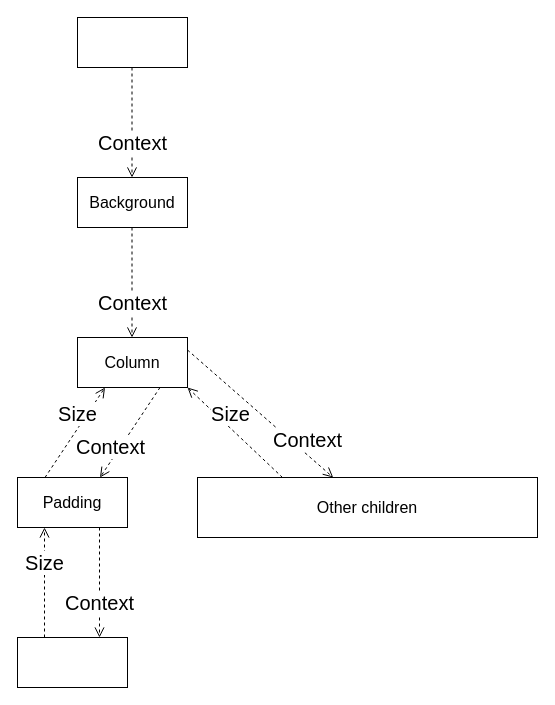
Image size: 555x705. Some labels were removed from this diagram. The shapes that lost their labels are listed below. From the top down, each one's centre as x and y in pixels, then its label:
At (x=132, y=42): "Main Menu Screen".
At (x=72, y=662): "New Game Button".
